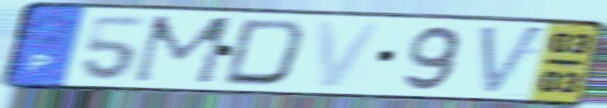5: (78, 13, 146, 83)
9: (400, 23, 464, 92)
D: (218, 17, 311, 89)
M: (127, 13, 240, 87)
V: (476, 23, 550, 99), (313, 19, 387, 90)
